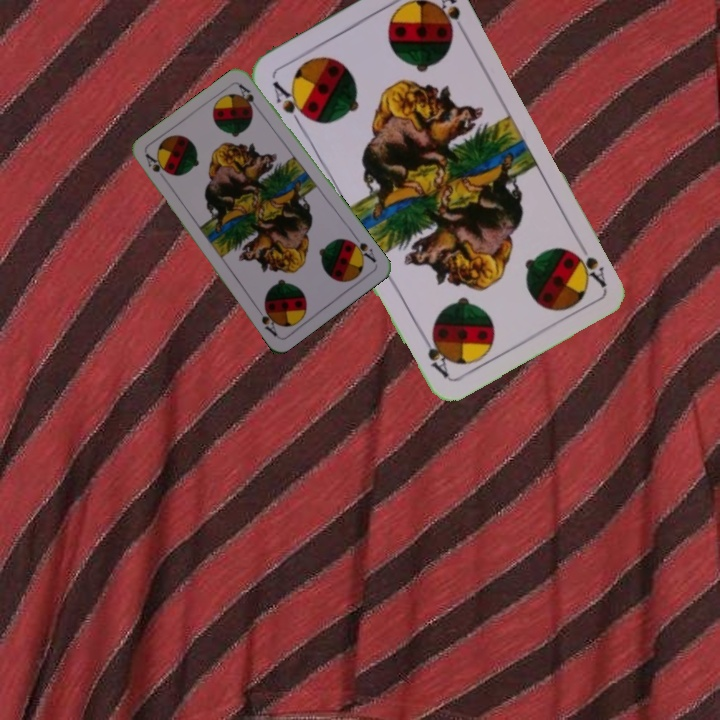SA: (568, 236, 610, 291), (268, 77, 312, 128), (345, 231, 379, 265), (141, 150, 167, 175)
